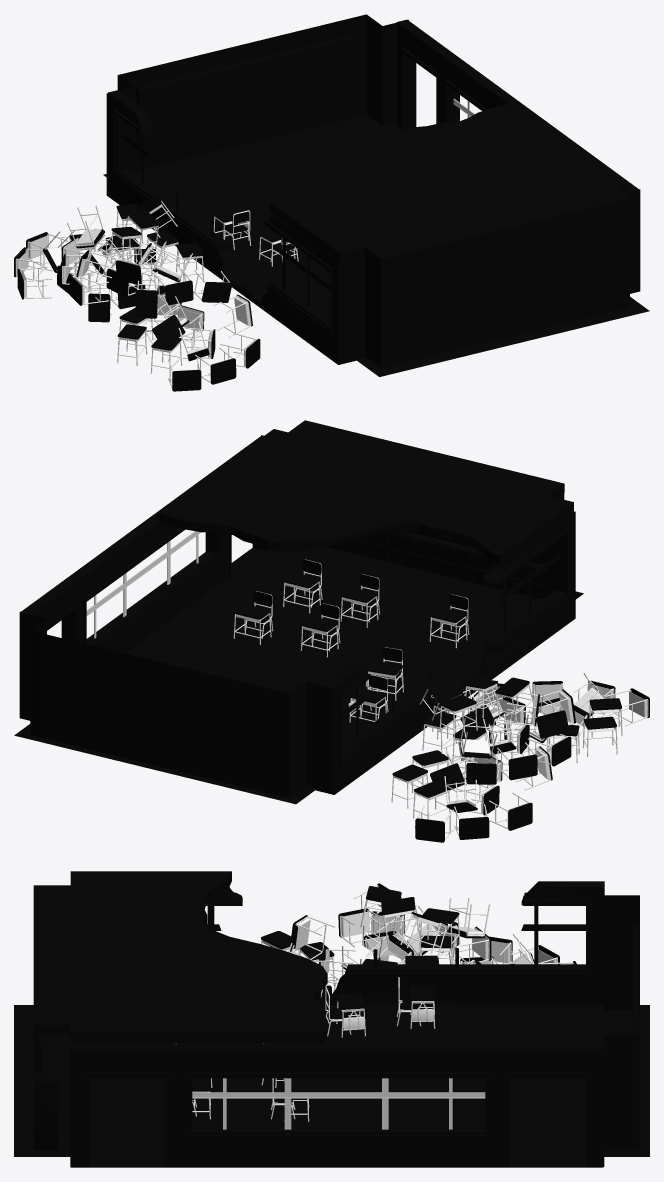
Rendered from classroom-day.glb.
3 renders of one model, top to bottom at view 1: azimuth 30°, elevation 25°; view 2: azimuth 150°, elevation 25°; view 3: azimuth 270°, elevation 25°, orthographic. The views are drawn at different scales.
Parts seen in each view (by area): view 1: 底面.001, 天花板2, Plane.001, Cylinder.061, 黑板前, 左墙.001, 右墙, 窗杆左; view 2: Plane.001, 天花板2, 底面.001, Cylinder.061, 左墙.001, 右墙, 柜子板, 窗杆右, 窗杆左, 底面, 柜子, Cylinder.013 (+4 smaller); view 3: 天花板2, Plane.001, 右墙, 左墙.001, Cylinder.061, 底面.001, 窗杆右, 底面, 高柜子, 窗杆左, 黑板前, Cylinder.004 (+1 smaller).
Boxes of the visible parts, bbox=[...] form: 底面.001: bbox=[106, 14, 640, 368]; 天花板2: bbox=[270, 103, 629, 267]; Plane.001: bbox=[103, 115, 649, 376]; Cylinder.061: bbox=[14, 194, 260, 391]; 黑板前: bbox=[136, 35, 351, 145]; 左墙.001: bbox=[108, 90, 339, 362]; 右墙: bbox=[396, 19, 638, 191]; 窗杆左: bbox=[120, 132, 330, 307]; Plane.001: bbox=[14, 546, 583, 804]; 天花板2: bbox=[159, 420, 573, 564]; 底面.001: bbox=[19, 435, 575, 798]; Cylinder.061: bbox=[391, 673, 649, 842]; 左墙.001: bbox=[321, 511, 573, 794]; 右墙: bbox=[20, 435, 266, 718]; 柜子板: bbox=[326, 533, 547, 599]; 窗杆右: bbox=[86, 531, 200, 638]; 窗杆左: bbox=[341, 553, 560, 740]; 底面: bbox=[125, 547, 575, 794]; 柜子: bbox=[359, 531, 547, 585]; Cylinder.013: bbox=[429, 607, 467, 648]; 天花板2: bbox=[33, 871, 327, 1042]; Plane.001: bbox=[14, 1005, 649, 1156]; 右墙: bbox=[70, 1043, 604, 1167]; 左墙.001: bbox=[206, 881, 604, 1004]; Cylinder.061: bbox=[261, 883, 576, 997]; 底面.001: bbox=[70, 895, 639, 1150]; 窗杆右: bbox=[192, 1078, 485, 1129]; 底面: bbox=[70, 998, 603, 1167]; 高柜子: bbox=[34, 1071, 58, 1150]; 窗杆左: bbox=[207, 906, 585, 967]; 黑板前: bbox=[632, 925, 639, 1034]; Cylinder.004: bbox=[336, 993, 365, 1037].
Size of what is drawn, in the model's own units: 10.48 by 3.27 by 11.39.
Materials: 17 (15 with a texture image).
